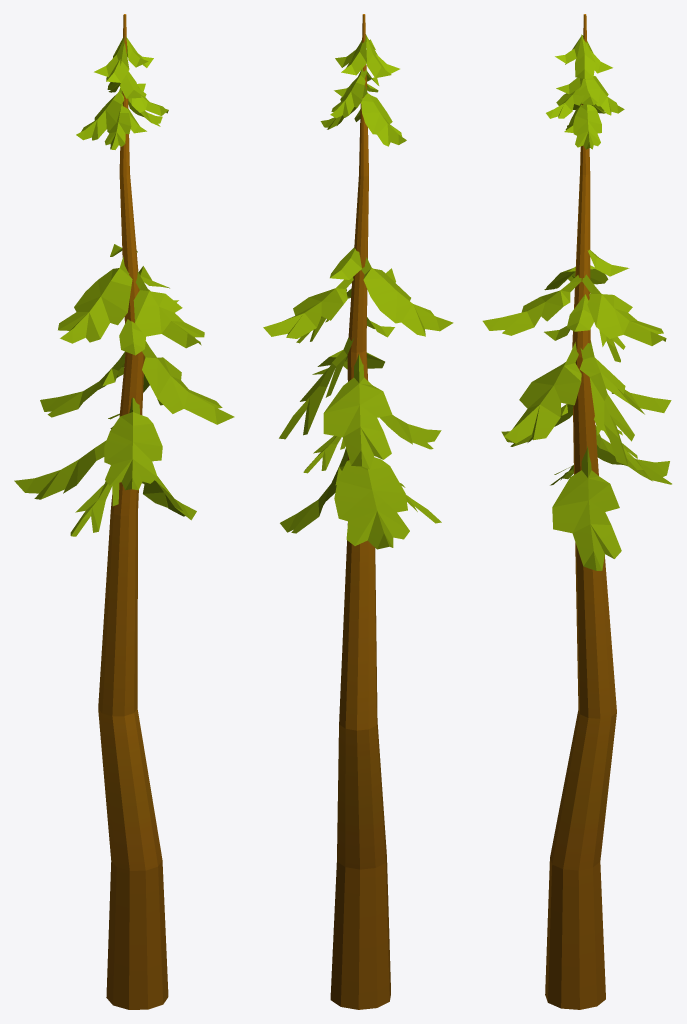
Rendered from Pine model B (2).glb.
3 views of the same model, side by side, from view 1: azimuth 30°, elevation 25°; view 2: azimuth 150°, elevation 25°; view 3: azimuth 270°, elevation 25° (orthographic).
Visible parts, largest first — view 1: SM_FreeTree_04_Free_Tree_M_0; view 2: SM_FreeTree_04_Free_Tree_M_0; view 3: SM_FreeTree_04_Free_Tree_M_0.
Boxes of the visible parts, <box> form: SM_FreeTree_04_Free_Tree_M_0: <box>14,14,234,1009</box>; SM_FreeTree_04_Free_Tree_M_0: <box>263,14,453,1009</box>; SM_FreeTree_04_Free_Tree_M_0: <box>482,14,671,1009</box>.
Bounding box in the file's own units: 2.03 × 12.28 × 2.16.
1 material, 1 textured.
